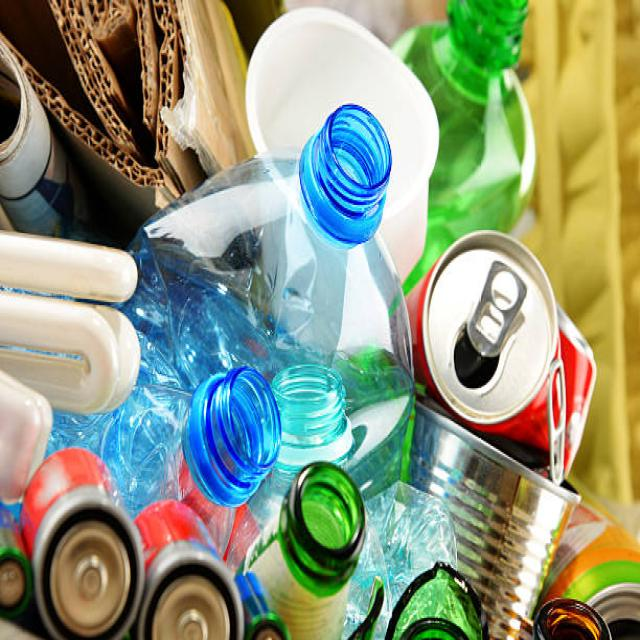glass: (1, 235, 133, 413)
metal: (426, 224, 546, 616), (38, 514, 270, 628)
plastic: (160, 128, 404, 485)
